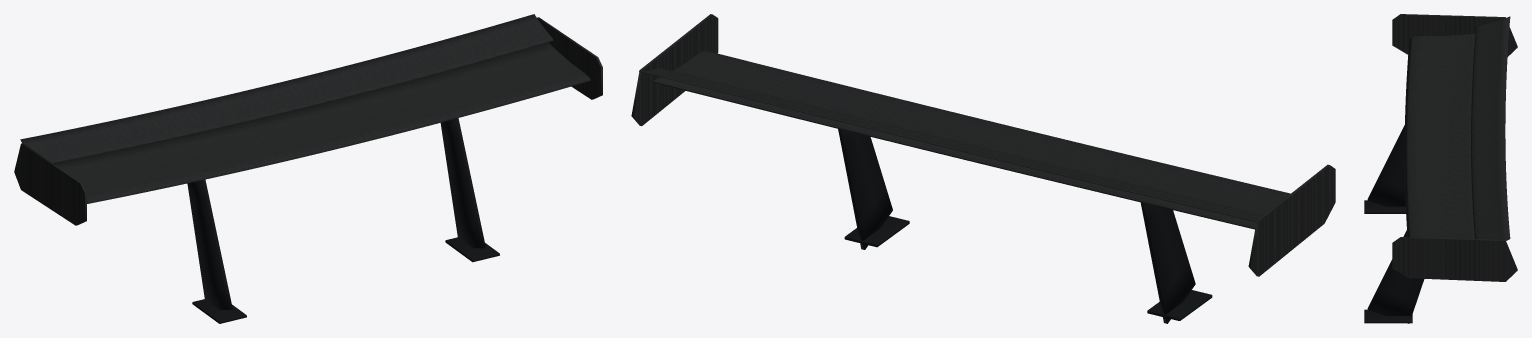
File: RA60_double_element_wing.glb
The picture shows the model from 3 angles, left to right: view 1: azimuth 30°, elevation 25°; view 2: azimuth 150°, elevation 25°; view 3: azimuth 270°, elevation 25°; orthographic projection. The views are drawn at different scales.
Visible parts, largest first — view 1: MOD_NC_RA60_main, MOD_NC_RA60_flap, MOD_NC_RA60_endplate_R, MOD_NC_RA60_upright_R, MOD_NC_RA60_upright_L, MOD_NC_RA60_endplate_L, MOD_NC_RA60_foot_R, MOD_NC_RA60_foot_L; view 2: MOD_NC_RA60_main, MOD_NC_RA60_flap, MOD_NC_RA60_endplate_R, MOD_NC_RA60_upright_R, MOD_NC_RA60_upright_L, MOD_NC_RA60_endplate_L, MOD_NC_RA60_foot_L, MOD_NC_RA60_foot_R; view 3: MOD_NC_RA60_main, MOD_NC_RA60_flap, MOD_NC_RA60_endplate_L, MOD_NC_RA60_endplate_R, MOD_NC_RA60_upright_L, MOD_NC_RA60_upright_R, MOD_NC_RA60_foot_L, MOD_NC_RA60_foot_R.
Boxes of the visible parts, x1,y1,x2,y2 form: MOD_NC_RA60_main: (54, 42, 590, 203); MOD_NC_RA60_flap: (20, 14, 553, 163); MOD_NC_RA60_endplate_R: (14, 143, 86, 225); MOD_NC_RA60_upright_R: (187, 179, 232, 310); MOD_NC_RA60_upright_L: (440, 118, 485, 248); MOD_NC_RA60_endplate_L: (537, 17, 602, 99); MOD_NC_RA60_foot_R: (192, 299, 246, 323); MOD_NC_RA60_foot_L: (445, 237, 499, 262); MOD_NC_RA60_main: (652, 50, 1290, 229); MOD_NC_RA60_flap: (639, 68, 1263, 221); MOD_NC_RA60_endplate_R: (1248, 164, 1335, 276); MOD_NC_RA60_upright_R: (1140, 202, 1195, 323); MOD_NC_RA60_upright_L: (838, 129, 892, 249); MOD_NC_RA60_endplate_L: (631, 14, 718, 126); MOD_NC_RA60_foot_L: (844, 216, 909, 247); MOD_NC_RA60_foot_R: (1147, 290, 1212, 320); MOD_NC_RA60_main: (1404, 33, 1475, 238); MOD_NC_RA60_flap: (1471, 16, 1510, 240); MOD_NC_RA60_endplate_L: (1392, 237, 1517, 281); MOD_NC_RA60_endplate_R: (1392, 14, 1517, 56); MOD_NC_RA60_upright_L: (1367, 230, 1424, 323); MOD_NC_RA60_upright_R: (1367, 125, 1405, 206); MOD_NC_RA60_foot_L: (1364, 309, 1412, 323); MOD_NC_RA60_foot_R: (1364, 200, 1405, 213).
Bounding box in the file's own units: 1.31 × 0.3895 × 0.38.
Materials: 2 (1 with a texture image).
